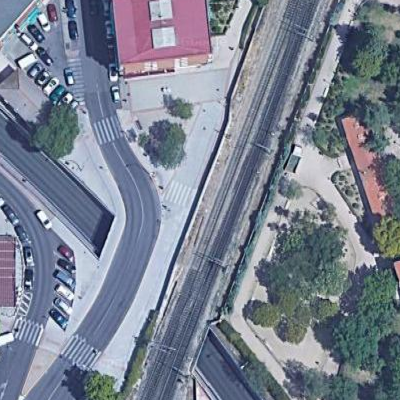tree: (34, 97, 84, 161), (290, 361, 355, 400), (146, 120, 193, 172), (333, 313, 376, 366), (351, 265, 396, 315), (256, 254, 302, 294), (347, 40, 387, 81), (363, 102, 394, 150), (309, 225, 344, 265), (81, 367, 121, 400), (370, 214, 400, 256), (249, 297, 279, 329), (277, 313, 307, 345), (379, 152, 400, 195), (165, 90, 195, 120), (314, 295, 339, 322)
